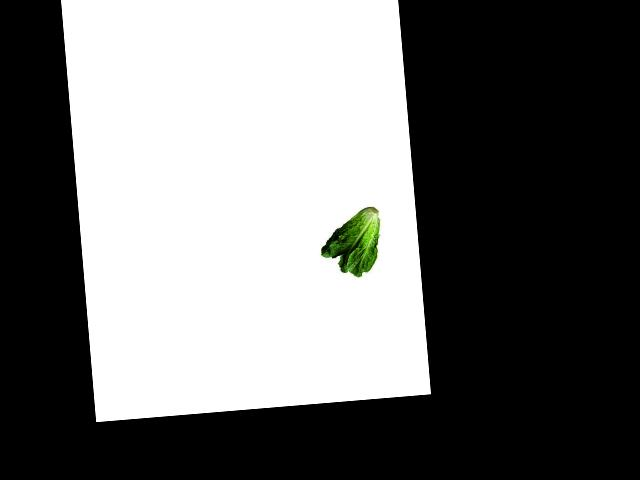lettuce: (314, 208, 387, 279)
